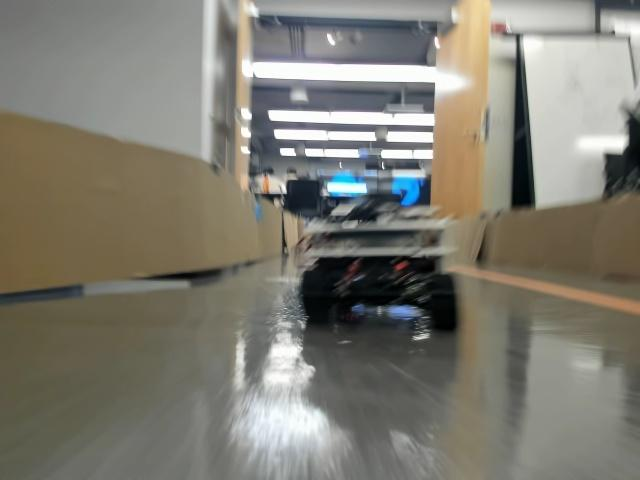Car: (304, 194, 459, 332)
